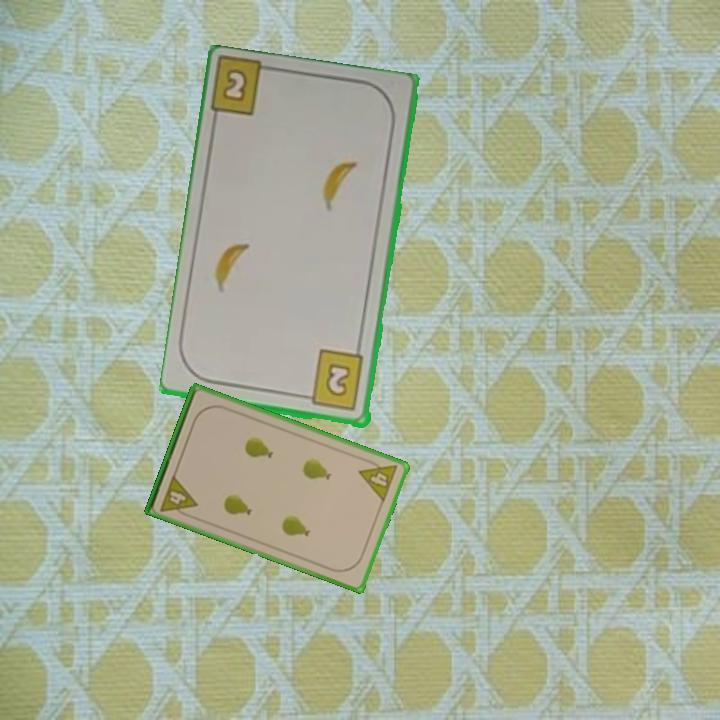2b: (299, 347, 367, 414), (219, 65, 251, 105)
4p: (355, 454, 401, 505), (157, 471, 200, 521)
